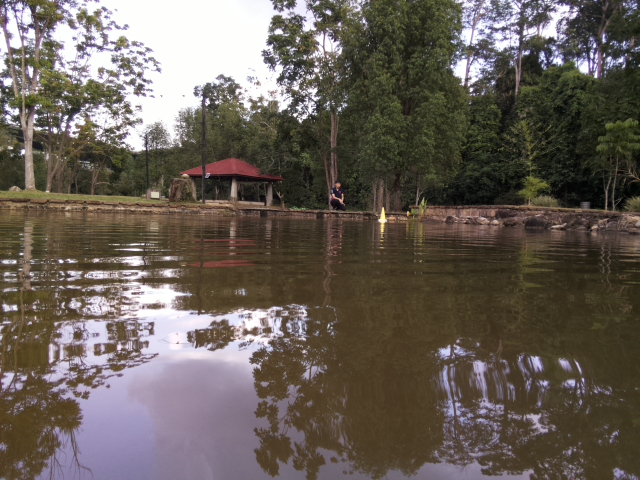checkpoint: (377, 207, 390, 224)
